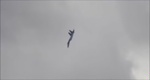maybay_muctieu: (64, 28, 76, 50)
